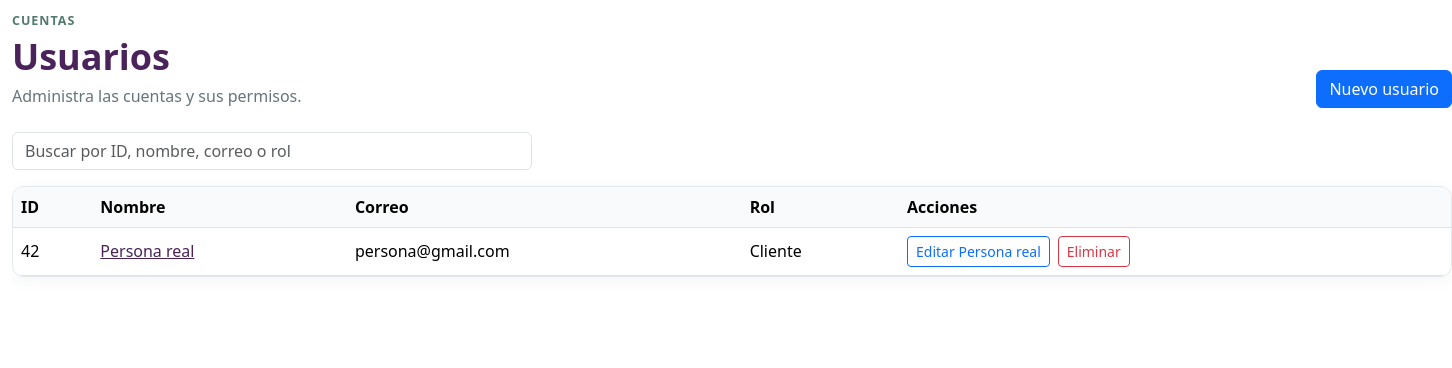
Test: Perfiles reales › mantiene la cuenta cuando el servidor rechaza borrarla
Nota de lectura: Invoca la operación indicada con los argumentos de este bloque.
What coordinates should you click on to do the following:
click the button with aria-label "Eliminar Persona"
I would click on:
 (1094, 251)
Its box is [1058, 236, 1130, 267].
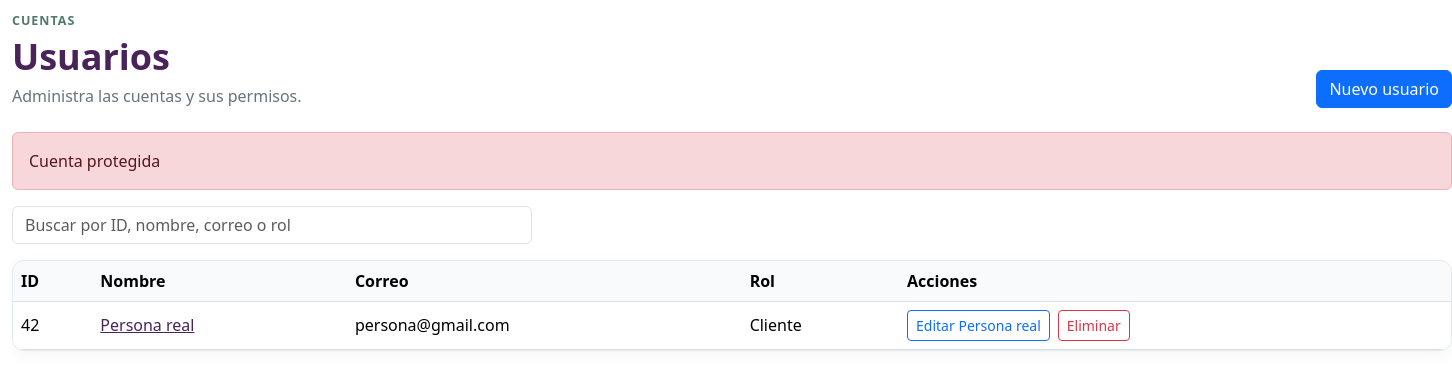
Check: the text "persona@gmail.com" is shown, box [347, 301, 742, 349]
Check: the message reads "Cuenta protegida", box [29, 150, 160, 172]
